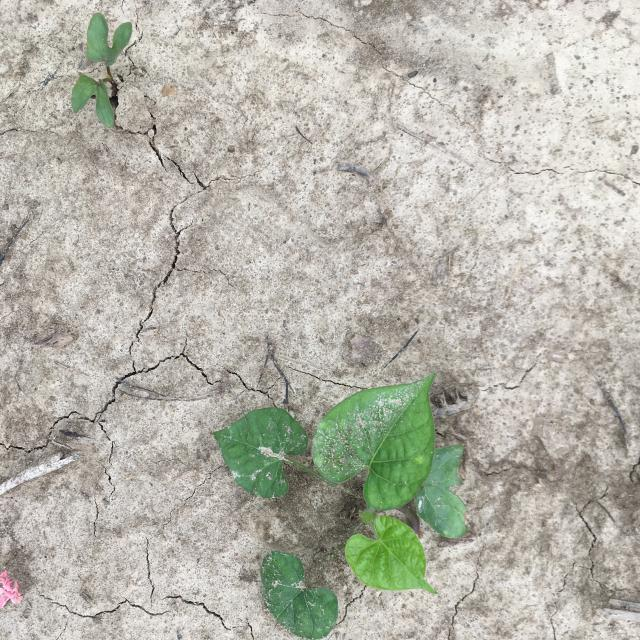MorningGlory: (213, 372, 468, 640), (71, 12, 133, 129)
